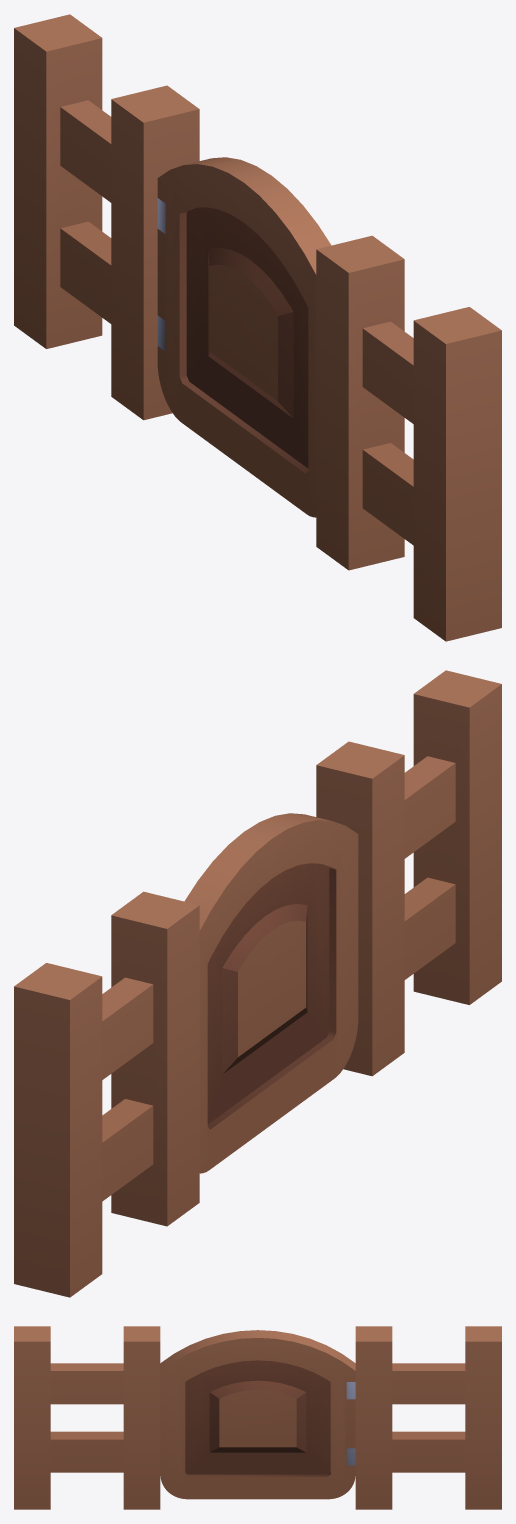
The model's file is T_fence-gate.glb.
3 views of the same model, one above another, from view 1: azimuth 30°, elevation 25°; view 2: azimuth 150°, elevation 25°; view 3: azimuth 270°, elevation 25° (orthographic). The views are drawn at different scales.
Parts seen in each view (by area): view 1: fence-gate, gate; view 2: fence-gate, gate; view 3: fence-gate, gate.
Boxes of the visible parts, x1,y1,x2,y2 form: fence-gate: [14, 14, 501, 641]; gate: [157, 157, 331, 517]; fence-gate: [14, 670, 501, 1297]; gate: [184, 813, 358, 1173]; fence-gate: [14, 1326, 501, 1509]; gate: [160, 1330, 355, 1499].
Bounding box in the file's own units: 0.075 × 0.38 × 1.
